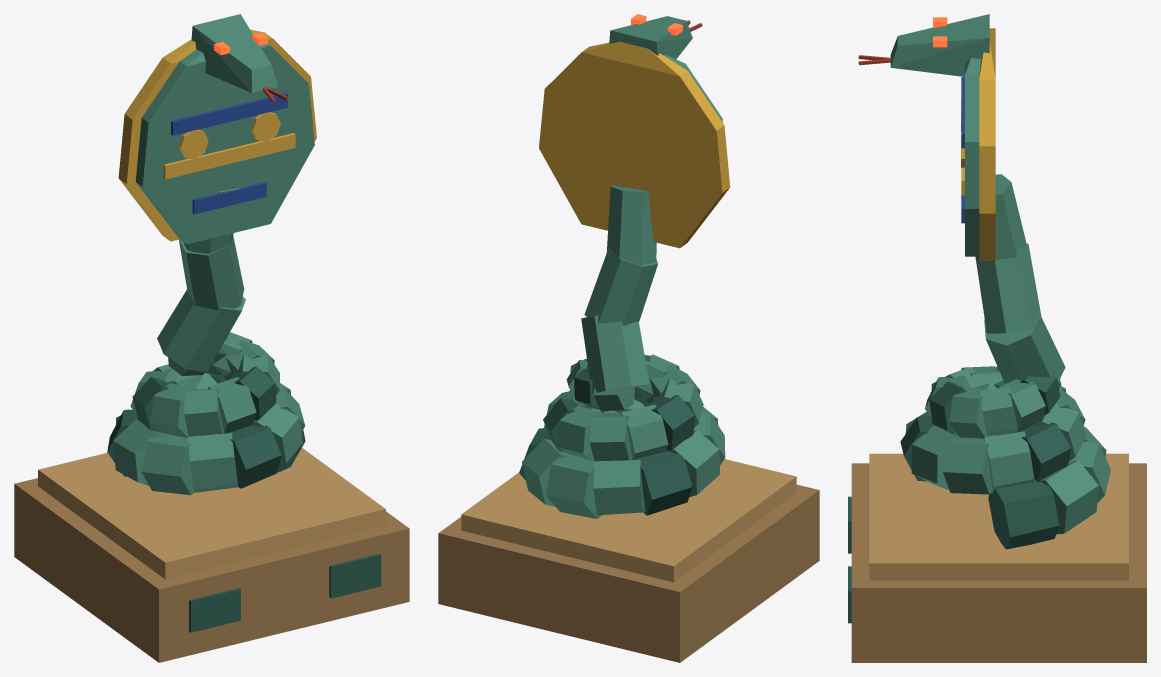
File: desert_serpent_statue.glb
The picture shows the model from 3 angles, left to right: view 1: azimuth 30°, elevation 25°; view 2: azimuth 150°, elevation 25°; view 3: azimuth 270°, elevation 25°; orthographic projection. The views are drawn at different scales.
Visible parts, largest first — view 1: desert_serpent_statue; view 2: desert_serpent_statue; view 3: desert_serpent_statue.
Part boxes in pixels (x1=…): desert_serpent_statue: x1=14, y1=14, x2=409, y2=662; desert_serpent_statue: x1=438, y1=14, x2=819, y2=662; desert_serpent_statue: x1=848, y1=14, x2=1146, y2=662.
Size of the model in its own units: 2.5 by 5.37 by 2.53.
